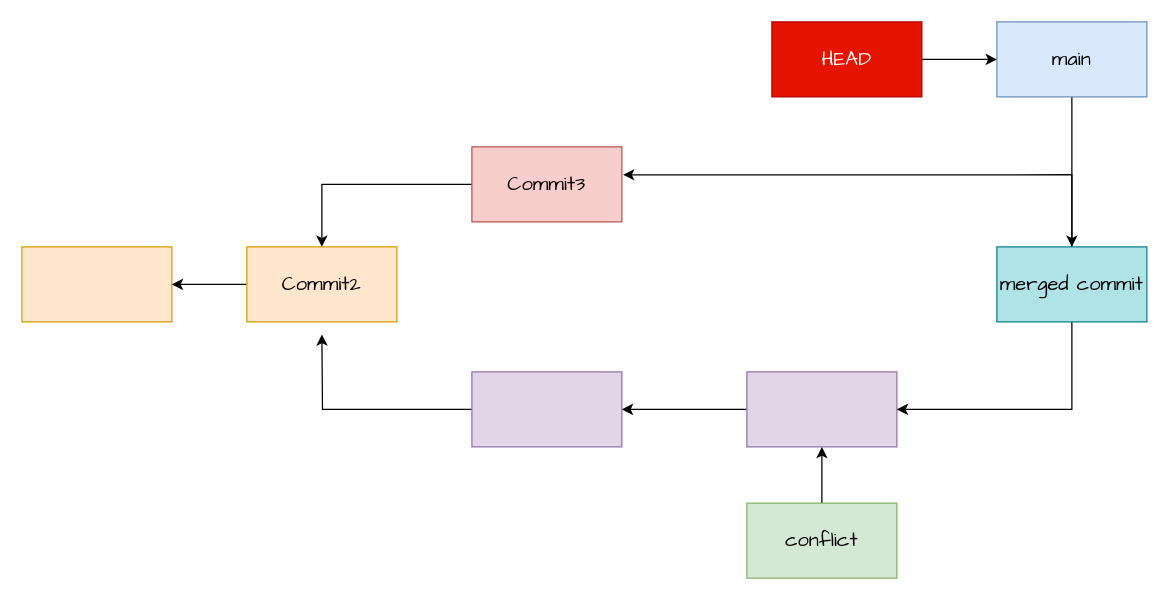
Image size: 1169x600. Some labels were removed from this diagram. Here are the shapes that lost their labels. From the top down, the box of each, then its label:
(21, 246, 172, 322): Commit1
(471, 371, 622, 447): Commit4
(746, 371, 897, 447): Commit5
